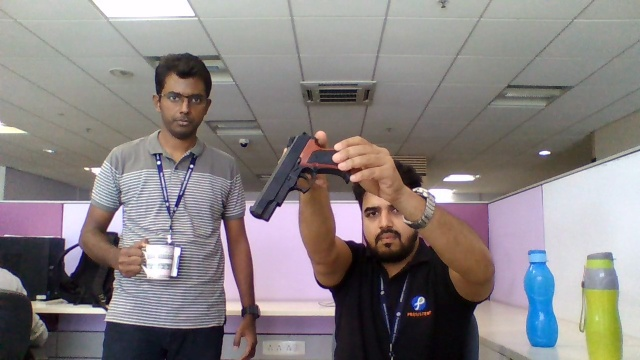gun: (249, 132, 299, 222)
